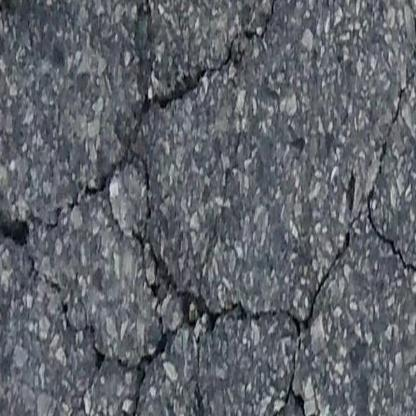Cracks: (0, 0, 360, 416), (370, 0, 416, 277), (187, 375, 208, 416)
